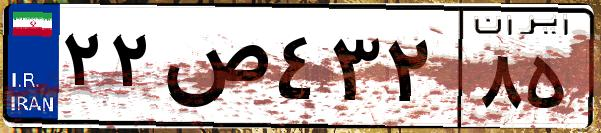2: (385, 28, 445, 110), (57, 26, 110, 100), (110, 28, 158, 98)
3: (330, 28, 385, 110)
4: (270, 28, 330, 110)
5: (525, 38, 570, 115)
8: (475, 38, 525, 113)
ص: (158, 20, 270, 120)
